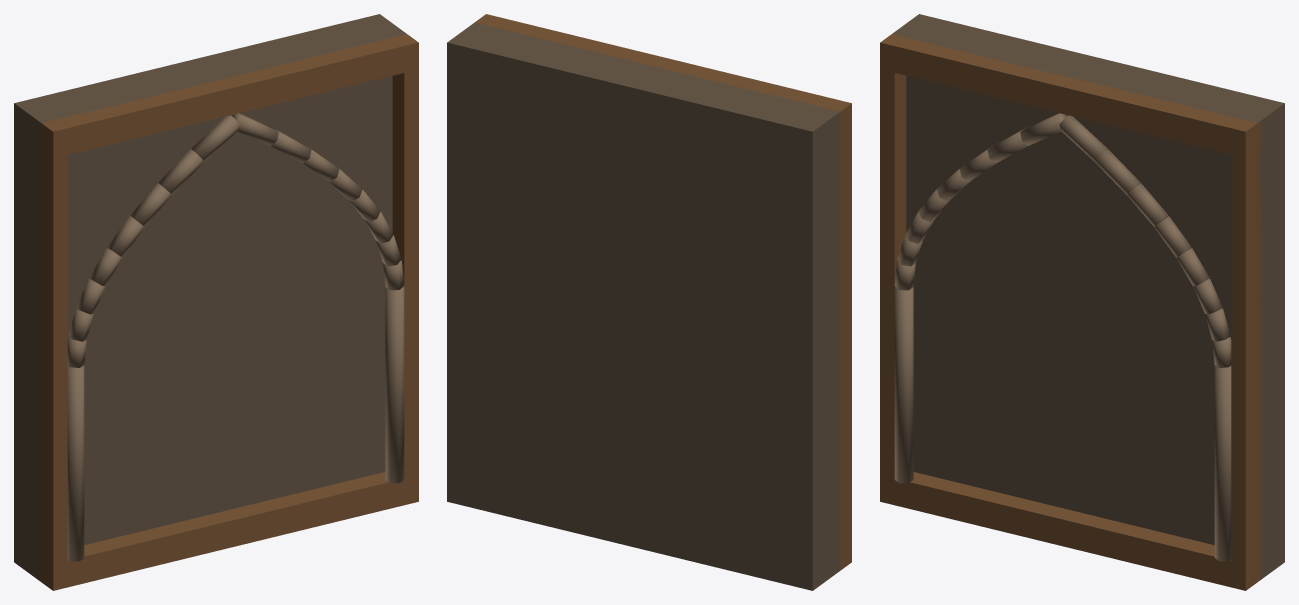
The model's file is roof_band_2m.glb.
3 renders of one model, left to right at view 1: azimuth 30°, elevation 25°; view 2: azimuth 150°, elevation 25°; view 3: azimuth 330°, elevation 25°, orthographic.
Visible parts, largest first — view 1: roof_band_2m; view 2: roof_band_2m; view 3: roof_band_2m.
Boxes of the visible parts, box(x1,y1,x2,y2) form: roof_band_2m: box(14, 14, 418, 590); roof_band_2m: box(447, 14, 851, 590); roof_band_2m: box(880, 14, 1284, 590).
Bounding box in the file's own units: 2 × 2.4 × 0.405.
